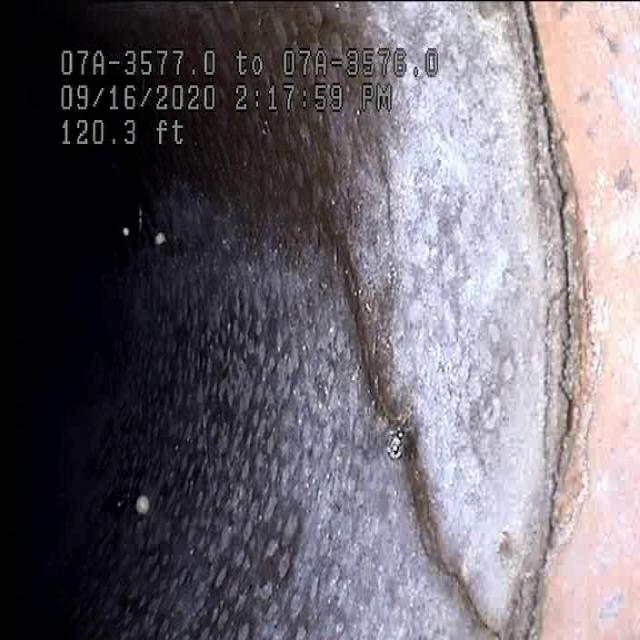Crack: (311, 228, 494, 631)
